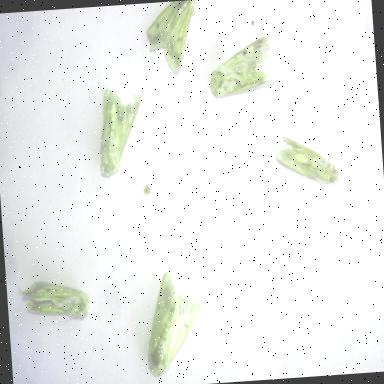abw: (138, 264, 213, 382), (91, 82, 150, 182), (202, 30, 280, 103), (141, 0, 202, 81), (272, 126, 344, 192), (13, 271, 94, 327)
